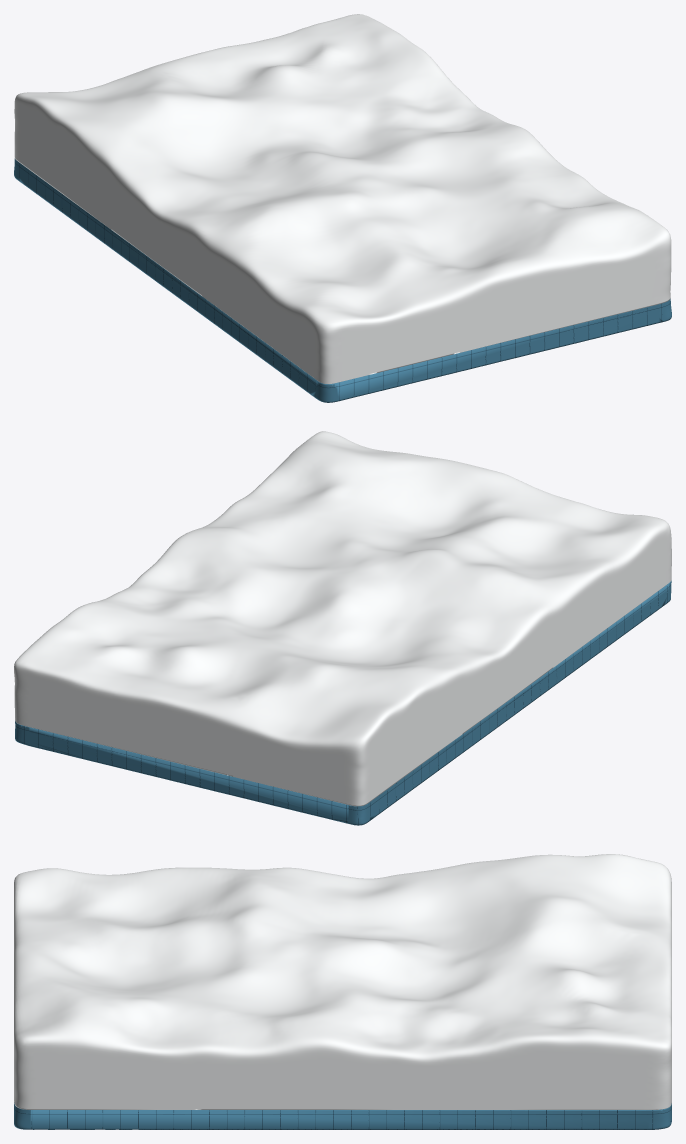
The model's file is swimming-pool-body.glb.
The picture shows the model from 3 angles, top to bottom: view 1: azimuth 30°, elevation 25°; view 2: azimuth 150°, elevation 25°; view 3: azimuth 270°, elevation 25°; orthographic projection. The views are drawn at different scales.
Parts seen in each view (by area): view 1: Body_ClearWater_80pct_STL_Waves, Body_Floor_20pct; view 2: Body_ClearWater_80pct_STL_Waves, Body_Floor_20pct; view 3: Body_ClearWater_80pct_STL_Waves, Body_Floor_20pct.
Part boxes in pixels (x1,y1,x2,y2): Body_ClearWater_80pct_STL_Waves: [14, 14, 671, 384]; Body_Floor_20pct: [14, 158, 671, 402]; Body_ClearWater_80pct_STL_Waves: [14, 431, 671, 806]; Body_Floor_20pct: [15, 580, 671, 825]; Body_ClearWater_80pct_STL_Waves: [14, 854, 671, 1109]; Body_Floor_20pct: [14, 1102, 671, 1129].
Bounding box in the file's own units: 1 × 0.2584 × 1.55.
Materials: 3 (2 with a texture image).
